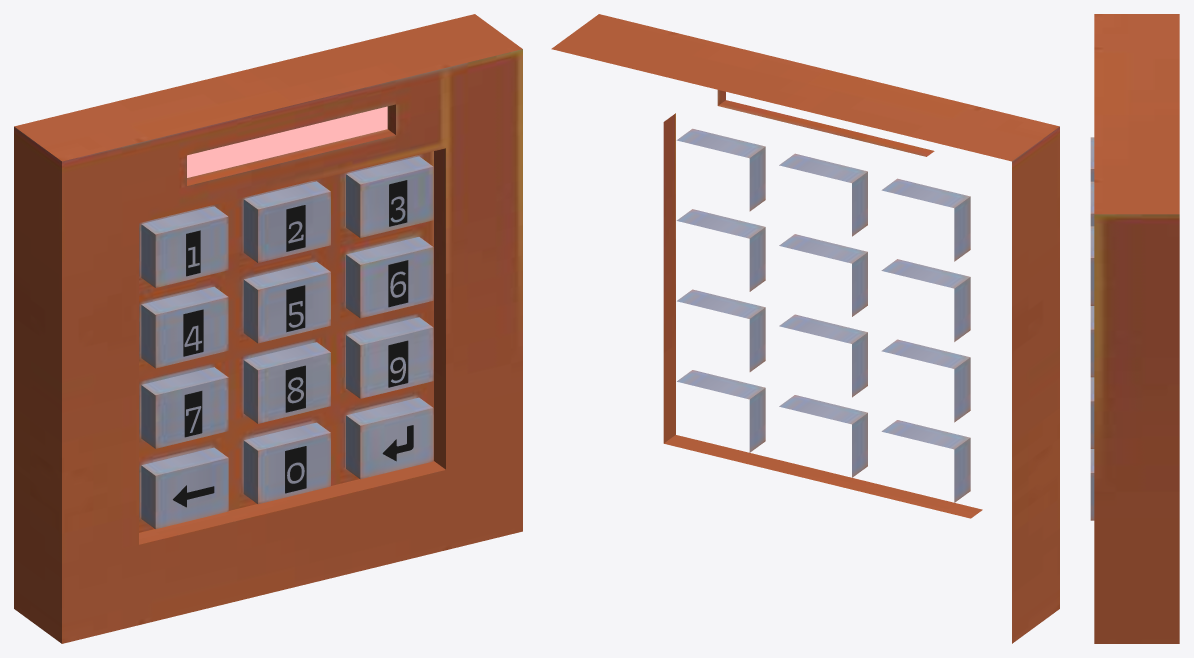
The model's file is Panel_Keypad.glb.
3 renders of one model, left to right at view 1: azimuth 30°, elevation 25°; view 2: azimuth 150°, elevation 25°; view 3: azimuth 270°, elevation 25°, orthographic. The views are drawn at different scales.
Visible parts, largest first — view 1: Panel_Keypad; view 2: Panel_Keypad; view 3: Panel_Keypad.
Boxes of the visible parts, box(x1,y1,x2,y2) form: Panel_Keypad: box(14, 14, 522, 643); Panel_Keypad: box(551, 14, 1059, 643); Panel_Keypad: box(1090, 14, 1179, 643).
Size of the model in its own units: 0.2922 by 0.2923 by 0.0564.
Materials: 3 (2 with a texture image).
